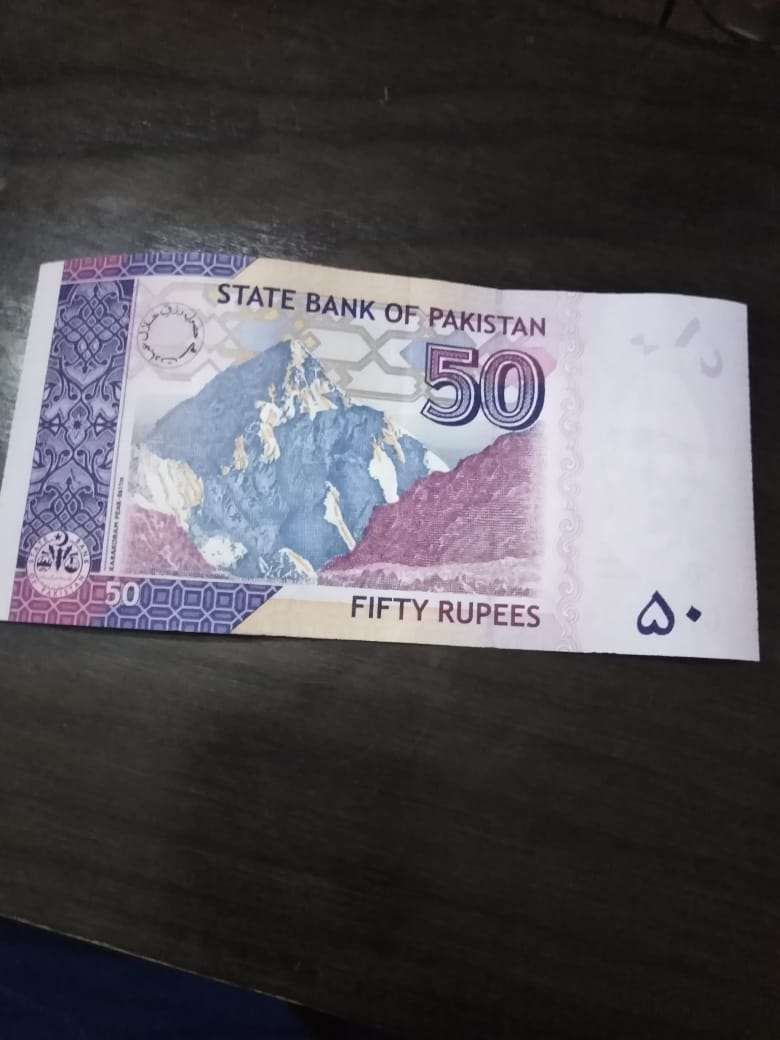50 rupee: (7, 239, 768, 701)
